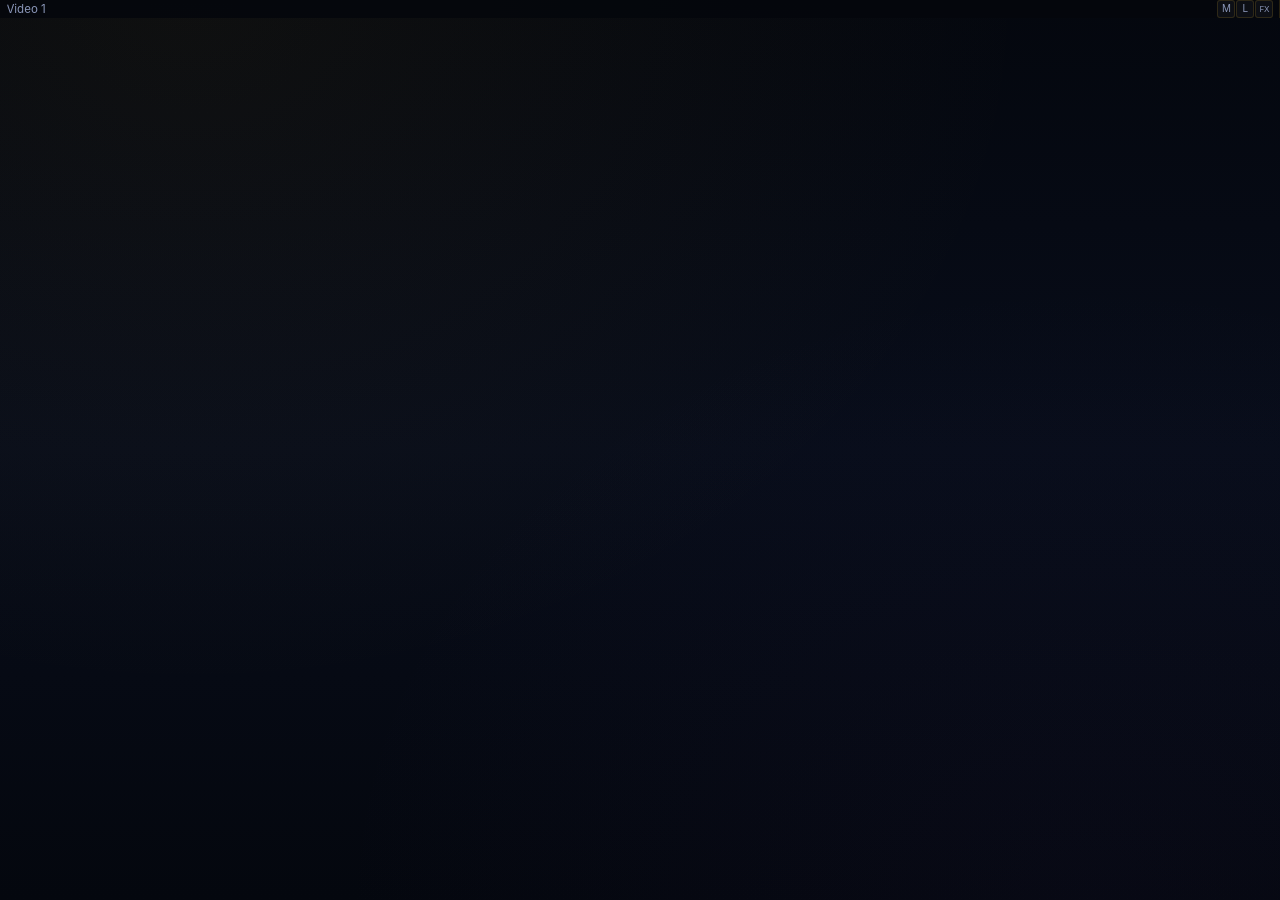
Test: TrackLaneHeader › FX opens the lane bus dialog; adding an effect is one undo step
Click the button "FX". click: point(1264, 9)
box: x1=1255 y1=0 x2=1273 y2=18
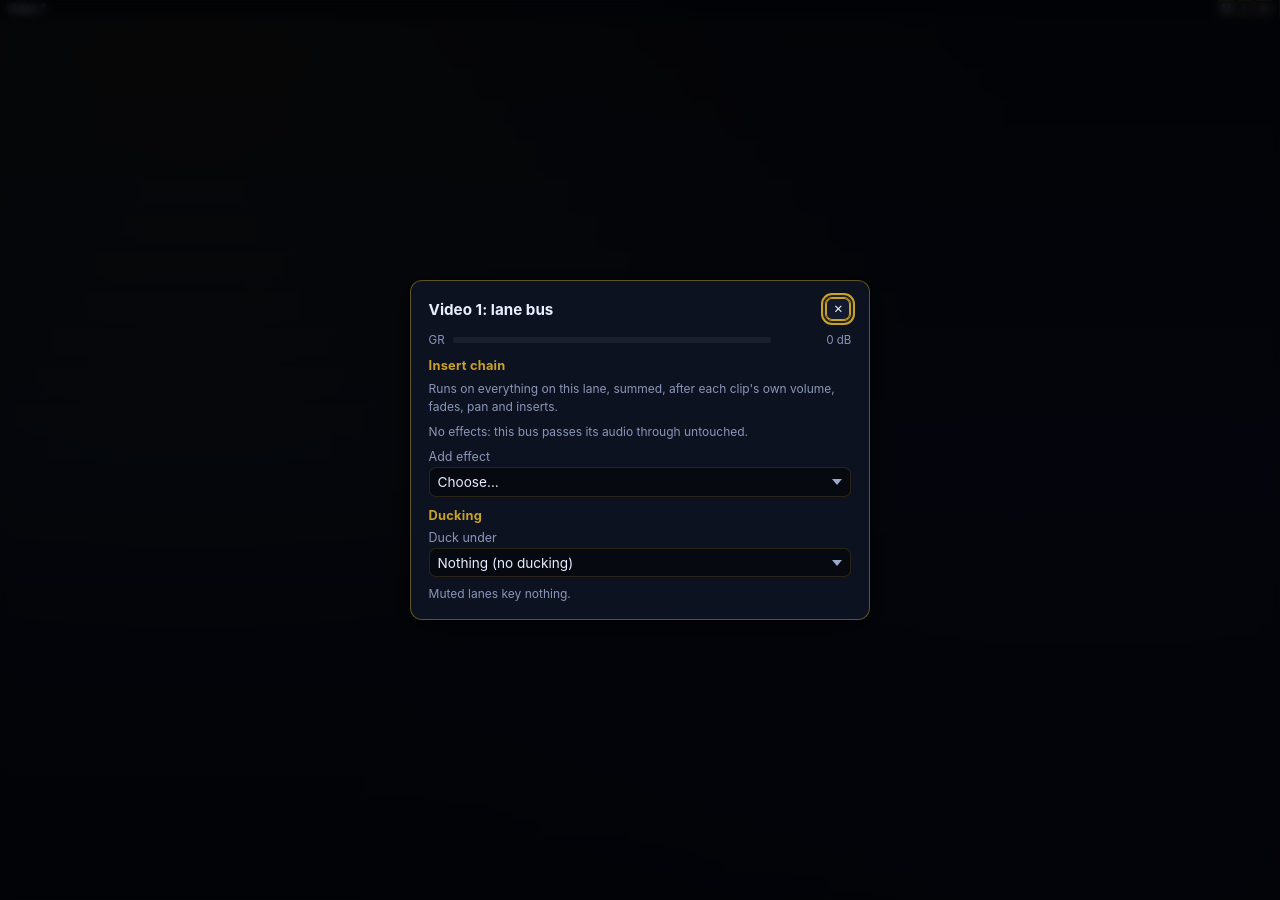
Select "Compressor" in the dropdown named "Add an effect to Video 1". click: point(640, 482)
box: x1=429 y1=467 x2=851 y2=497
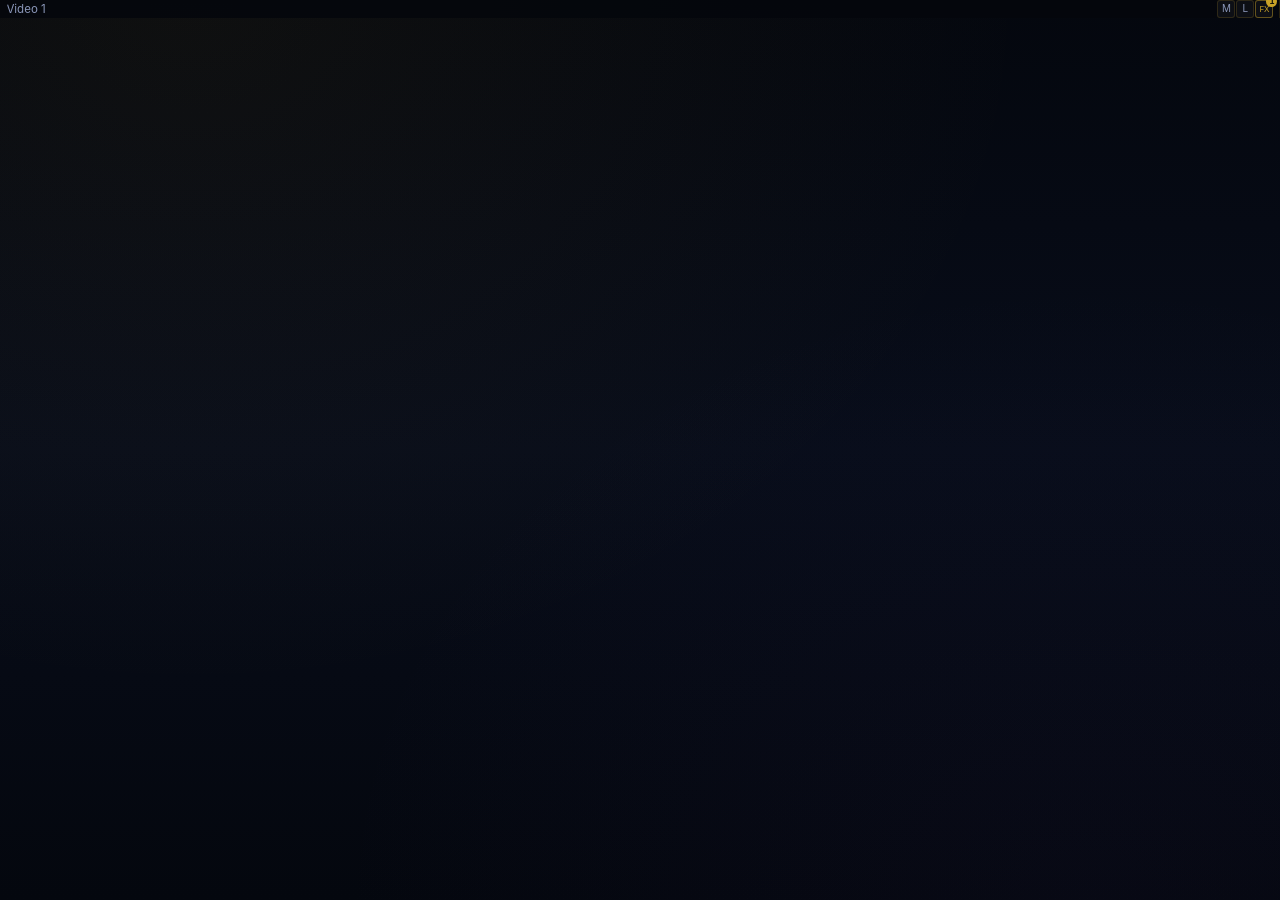
Now the button with class "timeline-lane-fx" reads "FX 1", box x1=1255 y1=0 x2=1273 y2=18
Now the dialog is gone
